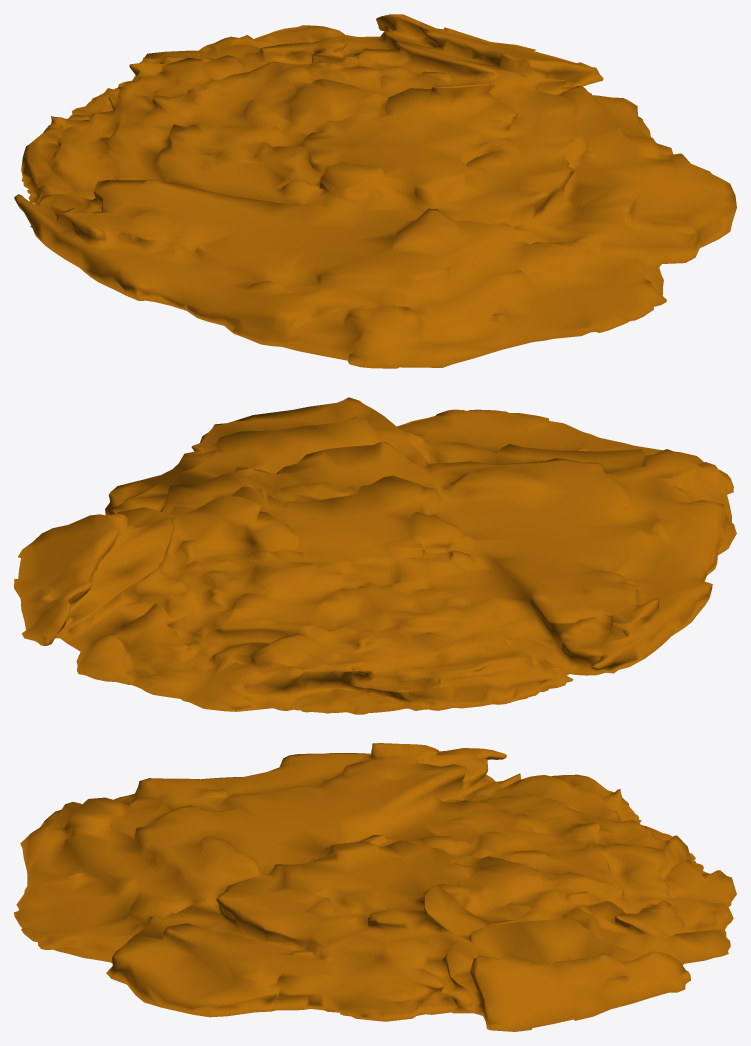
Rendered from Mesh_Ground_03_AG.FBX.
The picture shows the model from 3 angles, top to bottom: view 1: azimuth 30°, elevation 25°; view 2: azimuth 150°, elevation 25°; view 3: azimuth 270°, elevation 25°; orthographic projection. The views are drawn at different scales.
Visible parts, largest first — view 1: MESH_LOD0; view 2: MESH_LOD0; view 3: MESH_LOD0.
Part boxes in pixels (box(x1,y1,x2,y2)): MESH_LOD0: box(14, 14, 736, 368); MESH_LOD0: box(14, 397, 736, 714); MESH_LOD0: box(14, 743, 736, 1031).
Size of what is drawn, in the model's own units: 135 by 13.48 by 155.
